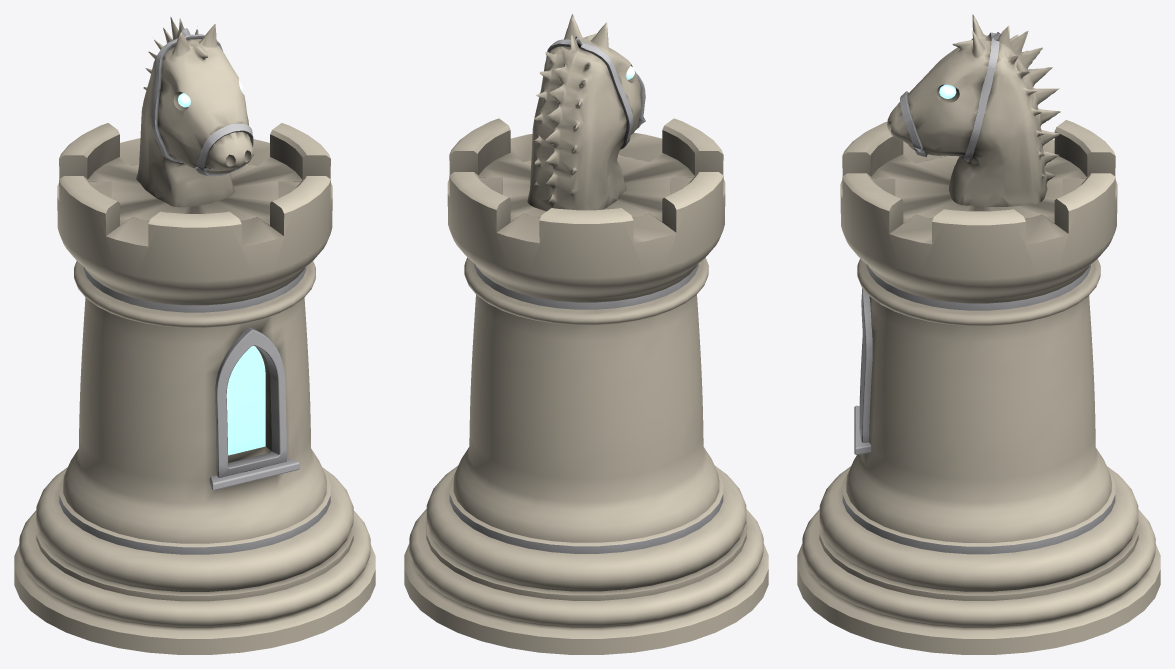
Rendered from chancellor.glb.
3 renders of one model, left to right at view 1: azimuth 30°, elevation 25°; view 2: azimuth 150°, elevation 25°; view 3: azimuth 270°, elevation 25°, orthographic.
Visible parts, largest first — view 1: chancellor; view 2: chancellor; view 3: chancellor.
Boxes of the visible parts, x1=… form: chancellor: x1=14, y1=17, x2=375, y2=654; chancellor: x1=404, y1=14, x2=768, y2=654; chancellor: x1=797, y1=14, x2=1160, y2=654.
Bounding box in the file's own units: 0.7372 × 1.24 × 0.7372.
